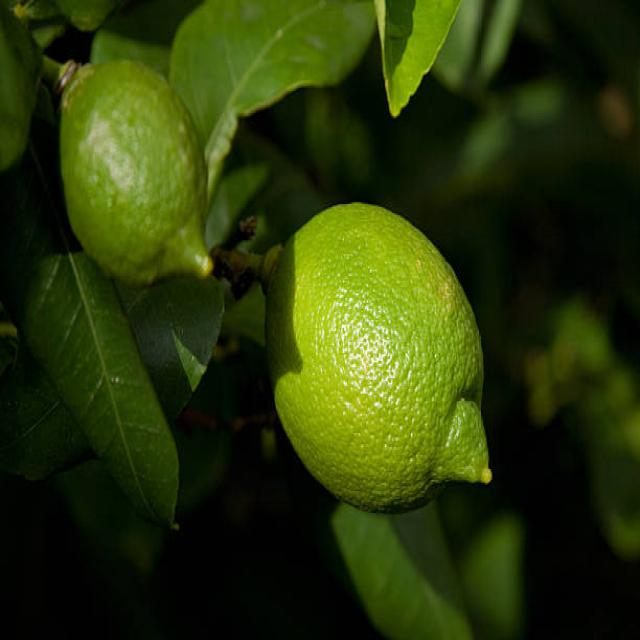Unripe: (263, 199, 494, 513), (60, 54, 216, 286)
